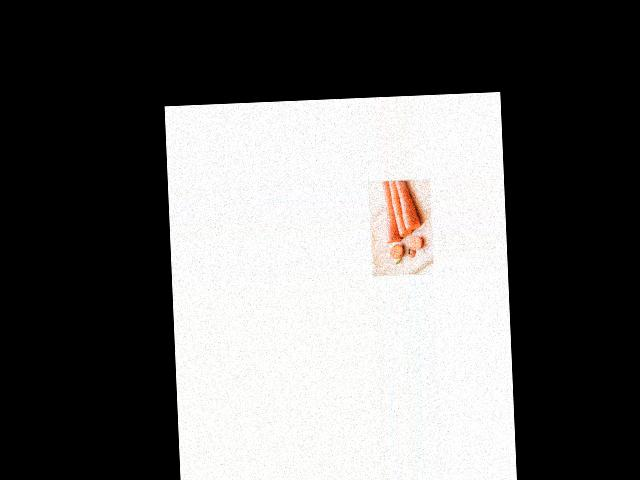carrot: (398, 178, 421, 236)
